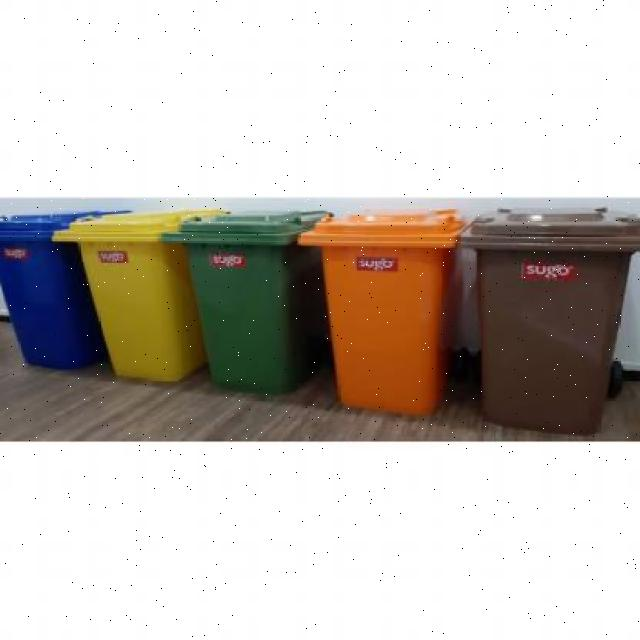garbage container: (472, 204, 639, 436), (314, 208, 469, 423)
